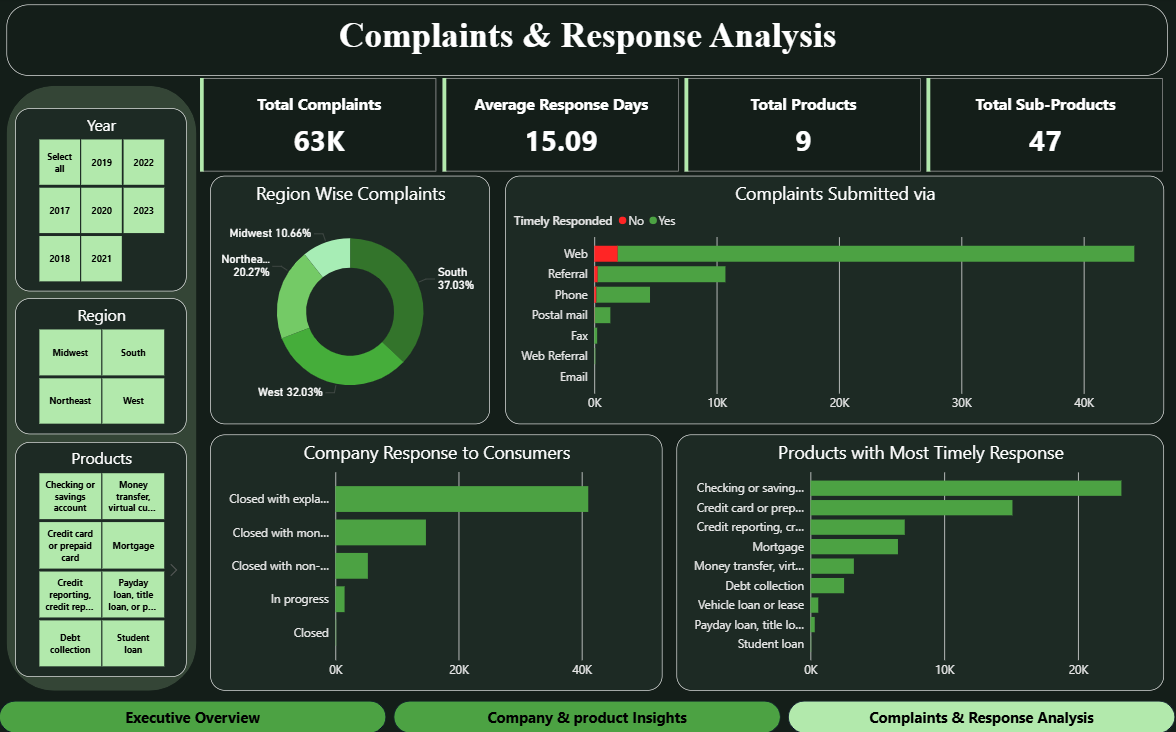

What the dashboard file says about the page in this screenshot:
{"tool":"powerbi","page":{"name":"Complaints & Response Analysis","canvas":[1600,1000],"ordinal":2},"visuals":[{"type":"textbox","box":[10.2,10.2,1577.8,96.8],"z":0},{"type":"cardVisual","fields":{"Data":["cleaned_financial_complaints.Total Complaints","cleaned_financial_complaints.Average Response Time","cleaned_financial_complaints.Total Products","cleaned_financial_complaints.Total Sub-Products"]},"box":[268.3,105.3,1319.6,137.6],"z":1000},{"type":"pageNavigator","box":[0,956.2,1599.9,44.2],"z":2000},{"type":"shape","box":[10.2,120.6,258.2,822],"z":3000},{"type":"slicer","title":"Year","fields":{"Values":["cleaned_financial_complaints.Date submitted.Variation.Date Hierarchy.Year"]},"box":[21.5,150.5,233,249.1],"z":4000},{"type":"slicer","title":"Region","fields":{"Values":["cleaned_financial_complaints.Census_Region"]},"box":[21.5,408.6,233,184.6],"z":5000},{"type":"slicer","title":"Products","fields":{"Values":["cleaned_financial_complaints.Product"]},"box":[21.5,603.9,233,319],"z":6000},{"type":"barChart","title":"Complaints Submitted via","fields":{"Category":["cleaned_financial_complaints.Submitted via"],"Series":["cleaned_financial_complaints.Timely response?"],"Y":["CountNonNull(cleaned_financial_complaints.Complaint ID)"]},"box":[687.4,243.3,895.2,337.5],"z":7000},{"type":"donutChart","title":"Region Wise Complaints","fields":{"Category":["cleaned_financial_complaints.Census_Region"],"Y":["CountNonNull(cleaned_financial_complaints.Complaint ID)"]},"box":[287.7,243.3,380.1,337.5],"z":8000},{"type":"clusteredBarChart","title":"Products with Most Timely Response","fields":{"Category":["cleaned_financial_complaints.Product"],"Y":["CountNonNull(cleaned_financial_complaints.Timely response?)"]},"box":[920.1,595,662.5,348.1],"z":10000},{"type":"clusteredBarChart","title":"Company Response to Consumers","fields":{"Category":["cleaned_financial_complaints.Company response to consumer"],"Y":["CountNonNull(cleaned_financial_complaints.Company response to consumer)"]},"box":[287.7,595,614.6,348.1],"z":11000}]}

Visuals, with their boxes in screenshot pixels (x1, y1, x2, y2), scaled from the page's 1600x1000 canvas onto the 1176x732 screenshot:
textbox: {"left": 7, "top": 7, "right": 1167, "bottom": 78}
cardVisual - cleaned_financial_complaints.Total Complaints x cleaned_financial_complaints.Average Response Time: {"left": 197, "top": 77, "right": 1167, "bottom": 178}
pageNavigator: {"left": 0, "top": 700, "right": 1175, "bottom": 731}
shape: {"left": 7, "top": 88, "right": 197, "bottom": 690}
"Year" slicer: {"left": 16, "top": 110, "right": 187, "bottom": 293}
"Region" slicer: {"left": 16, "top": 299, "right": 187, "bottom": 434}
"Products" slicer: {"left": 16, "top": 442, "right": 187, "bottom": 676}
"Complaints Submitted via" barChart: {"left": 505, "top": 178, "right": 1163, "bottom": 425}
"Region Wise Complaints" donutChart: {"left": 211, "top": 178, "right": 491, "bottom": 425}
"Products with Most Timely Response" clusteredBarChart: {"left": 676, "top": 436, "right": 1163, "bottom": 690}
"Company Response to Consumers" clusteredBarChart: {"left": 211, "top": 436, "right": 663, "bottom": 690}
